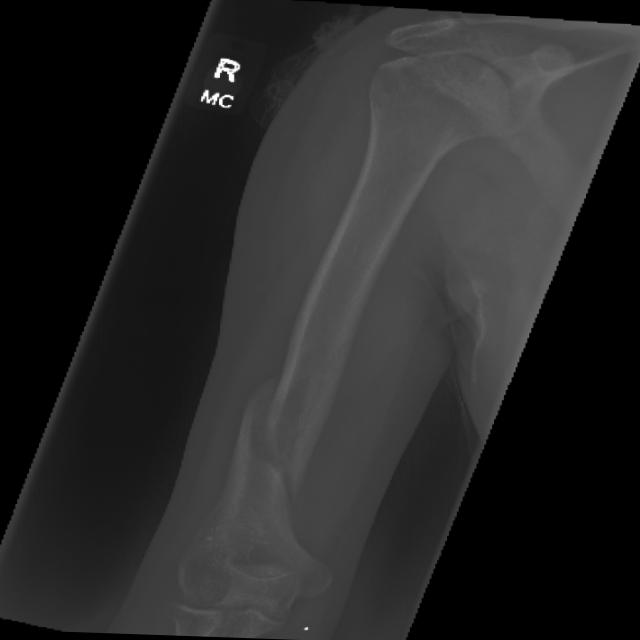humerus fracture: (196, 360, 399, 542)
